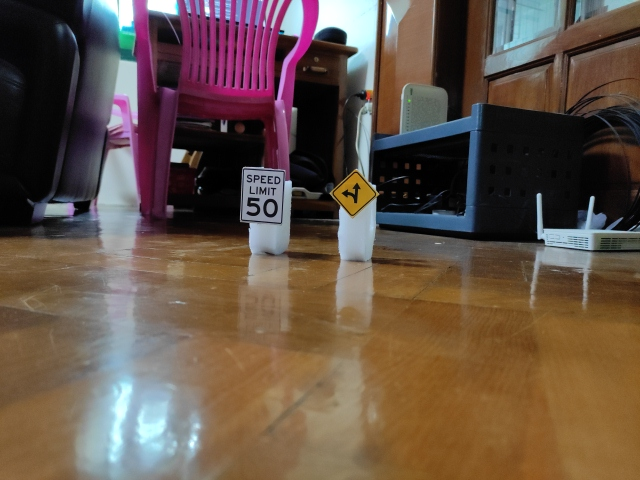Speed Limit 50: (240, 166, 287, 224)
Straight Or Left Sign: (332, 170, 378, 217)
